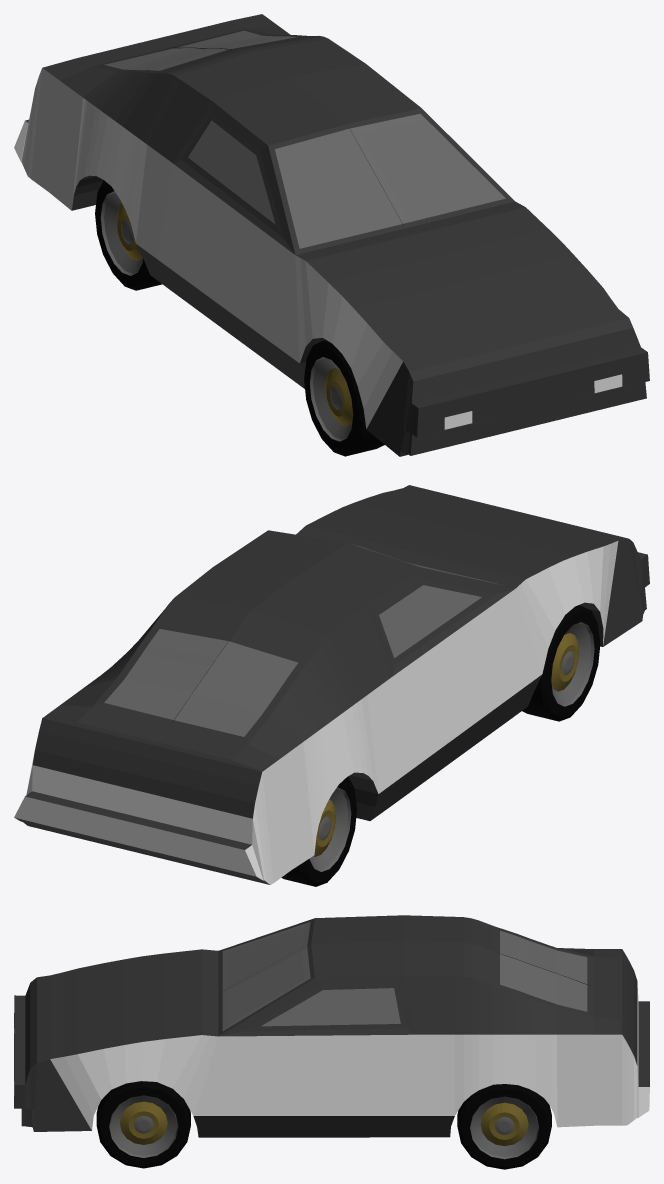
The model's file is CocheD90v2.fbx.
3 views of the same model, one above another, from view 1: azimuth 30°, elevation 25°; view 2: azimuth 150°, elevation 25°; view 3: azimuth 270°, elevation 25° (orthographic). The views are drawn at different scales.
Visible parts, largest first — view 1: Cochev1, Left_front_wheel.002, Left_front_wheel.001; view 2: Cochev1, Left_front_wheel.002, Left_front_wheel.001; view 3: Cochev1, Left_front_wheel, Left_front_wheel.001.
Part boxes in pixels (x1,y1,x2,y2): Cochev1: [14, 14, 649, 456]; Left_front_wheel.002: [304, 340, 384, 456]; Left_front_wheel.001: [95, 180, 161, 290]; Cochev1: [14, 485, 649, 884]; Left_front_wheel.002: [522, 605, 600, 721]; Left_front_wheel.001: [281, 776, 356, 886]; Cochev1: [14, 915, 649, 1137]; Left_front_wheel: [96, 1081, 190, 1168]; Left_front_wheel.001: [457, 1084, 551, 1169].
Size of the model in its own units: 486 by 171 by 156.
